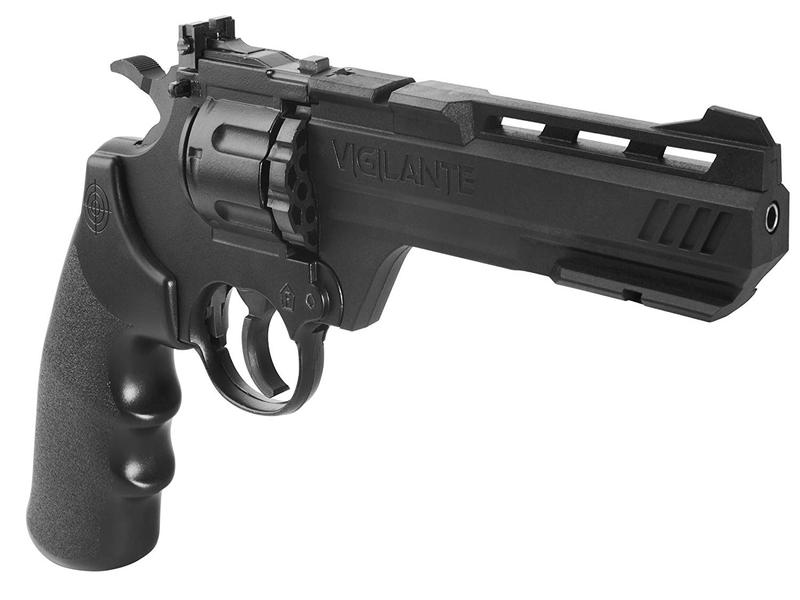Revolver: (32, 7, 633, 494)
